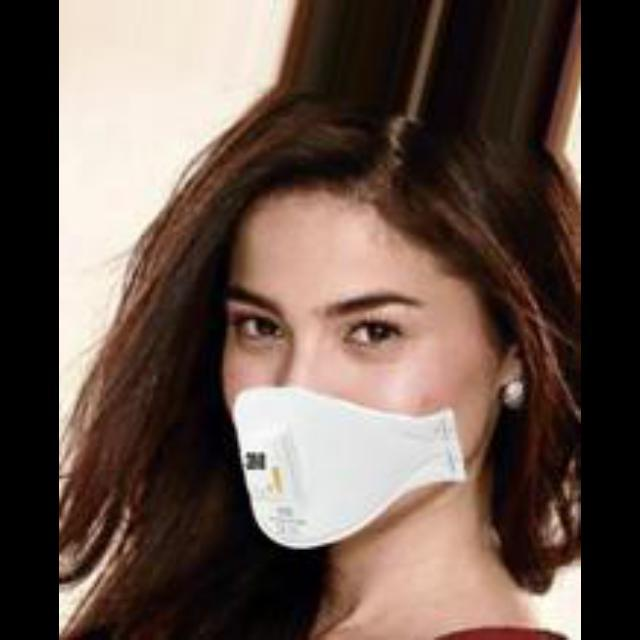suspicion: (205, 167, 495, 548)
